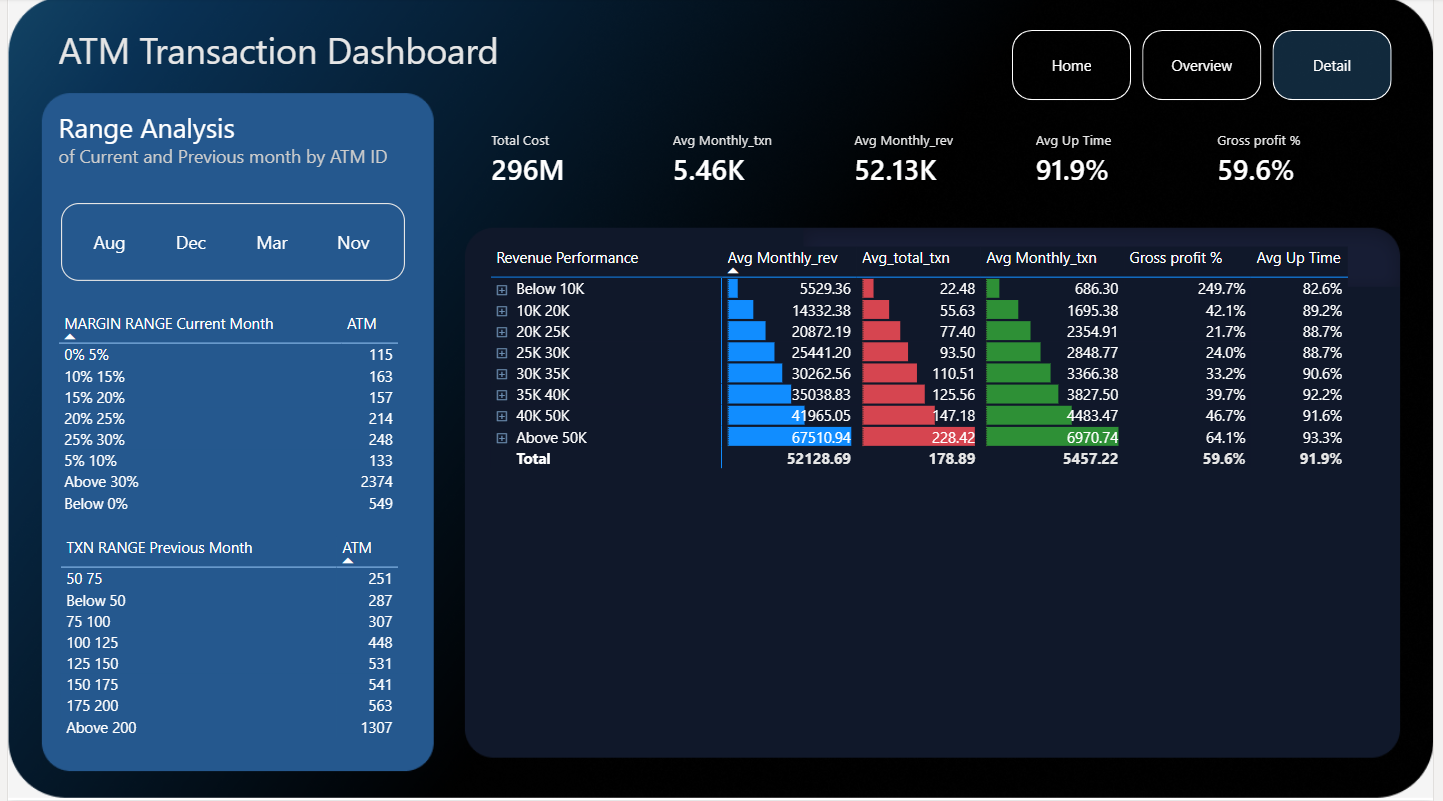

This screenshot's page, from the dashboard's own definition file:
{"tool":"powerbi","page":{"name":"Detail","canvas":[1280,720],"ordinal":2},"visuals":[{"type":"tableEx","fields":{"Values":["Dataset.MARGIN RANGE Current Month","Dataset.Atm_id"]},"box":[39.8,277.1,325.6,201.3],"z":0},{"type":"tableEx","fields":{"Values":["Dataset.TXN RANGE Previous Month","Dataset.Atm_id"]},"box":[41,478.4,324.3,193.9],"z":1000},{"type":"textbox","box":[40.2,94.4,325,66.6],"z":2000},{"type":"textbox","box":[40.2,18.6,447.3,58.8],"z":3000},{"type":"pivotTable","fields":{"Rows":["Dataset.Revenue Performance","Dataset.STATE","Dataset.Atm_id"],"Values":["Avg(Dataset.Monthly_rev)","Avg(Dataset.Avg_total_txn)","Avg(Dataset.Monthly_txn)","Dataset.Gross profit percent","Avg(Dataset.Up Time)"]},"box":[428.7,218.2,817.2,444.2],"z":4000},{"type":"cardVisual","fields":{"Data":["Sum(Dataset. Total Cost  )","Avg(Dataset.Monthly_txn)","Avg(Dataset.Monthly_rev)","Avg(Dataset.Up Time)","Dataset.Gross profit percent"]},"box":[405.1,91.4,841.1,105.5],"z":5000},{"type":"pageNavigator","box":[902.2,28.6,341.7,63.4],"z":6000},{"type":"advancedSlicerVisual","fields":{"Values":["Dataset.Month"]},"box":[47.2,183.9,309.4,69.6],"z":7000}]}

Visuals, with their boxes in screenshot pixels (x1, y1, x2, y2), scaled from the page's 1280x720 canvas onto the 1443x801 screenshot:
tableEx - Dataset.MARGIN RANGE Current Month x Dataset.Atm_id: x1=45, y1=308, x2=412, y2=532
tableEx - Dataset.TXN RANGE Previous Month x Dataset.Atm_id: x1=46, y1=532, x2=412, y2=748
textbox: x1=45, y1=105, x2=412, y2=179
textbox: x1=45, y1=21, x2=550, y2=86
pivotTable - Dataset.Revenue Performance x Dataset.STATE: x1=483, y1=243, x2=1405, y2=737
cardVisual - Sum(Dataset. Total Cost  ) x Avg(Dataset.Monthly_txn): x1=457, y1=102, x2=1405, y2=219
pageNavigator: x1=1017, y1=32, x2=1402, y2=102
advancedSlicerVisual - Dataset.Month: x1=53, y1=205, x2=402, y2=282
